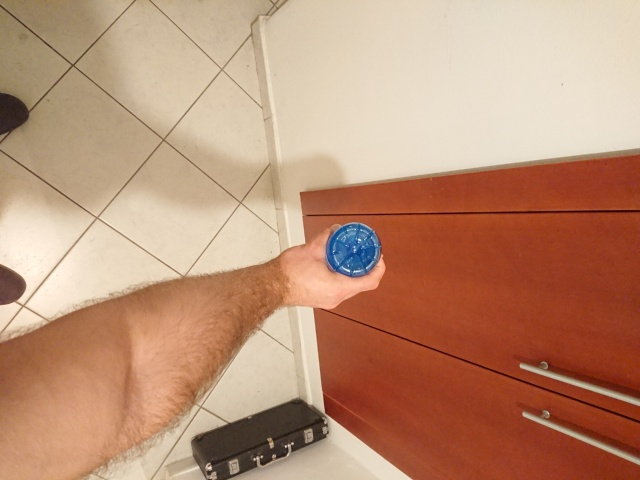Vindi Iso Sport Forest Strawberries 500mL: (324, 220, 383, 278)
